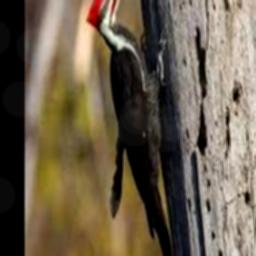Woodpecker: (86, 0, 179, 256)
